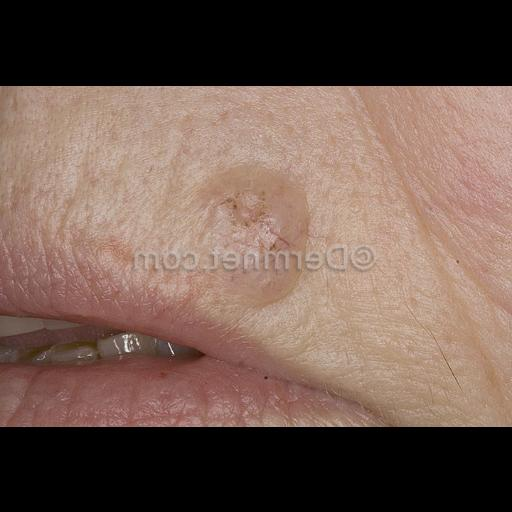Skin_Lesion: (180, 170, 342, 300)
